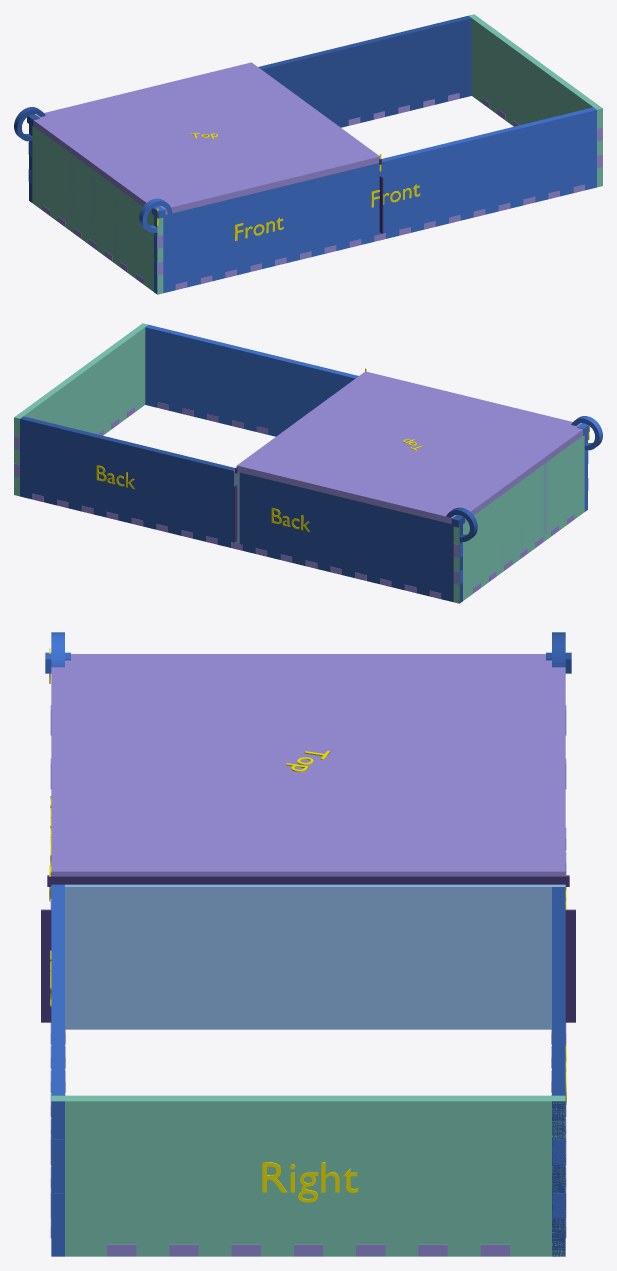
File: openscad_pivotbox.glb
3 views of the same model, one above another, from view 1: azimuth 30°, elevation 25°; view 2: azimuth 150°, elevation 25°; view 3: azimuth 270°, elevation 25° (orthographic). The views are drawn at different scales.
Visible parts, largest first — view 1: object; view 2: object; view 3: object.
Boxes of the visible parts, x1,y1,x2,y2 form: object: [14, 14, 602, 294]; object: [14, 323, 602, 603]; object: [41, 632, 575, 1256].
Bounding box in the file's own units: 310 × 60 × 156.
